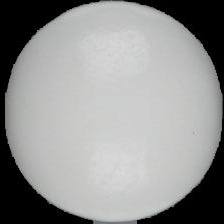0009-7663: (0, 0, 224, 224)
